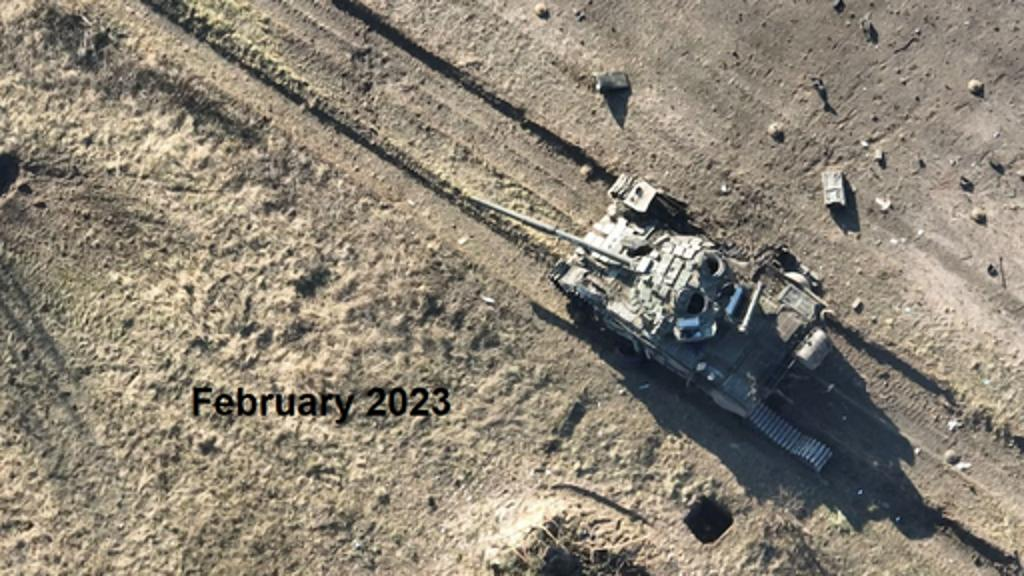TANK: (460, 168, 834, 440)
